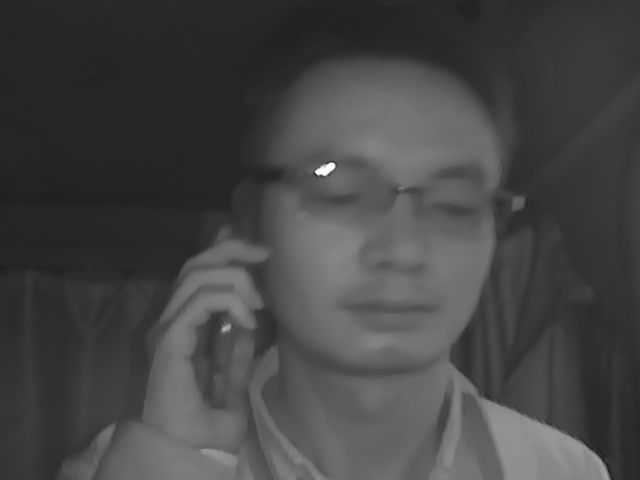hand: (134, 239, 275, 443)
